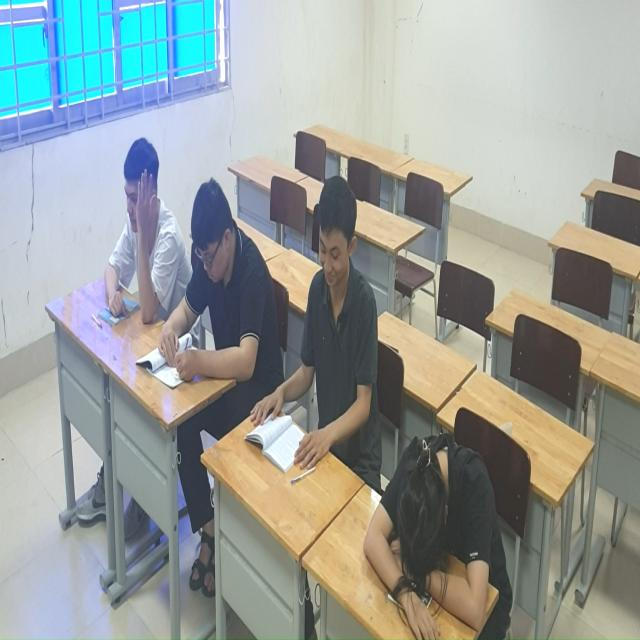raise_hand: (100, 131, 175, 328)
read: (245, 162, 390, 483), (158, 178, 270, 425)
sleep: (348, 439, 519, 640)
